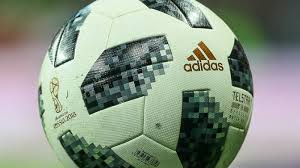football: (48, 3, 252, 164)
